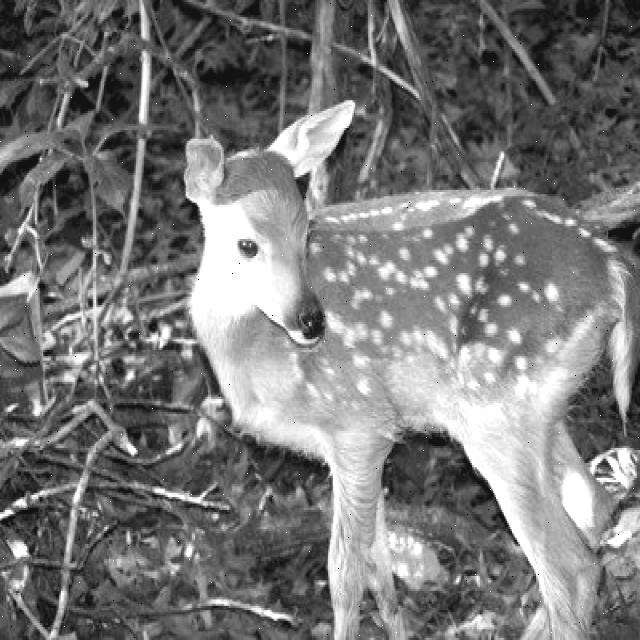deer: (168, 81, 368, 403)
